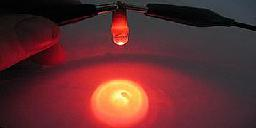LED: (102, 13, 134, 46)
